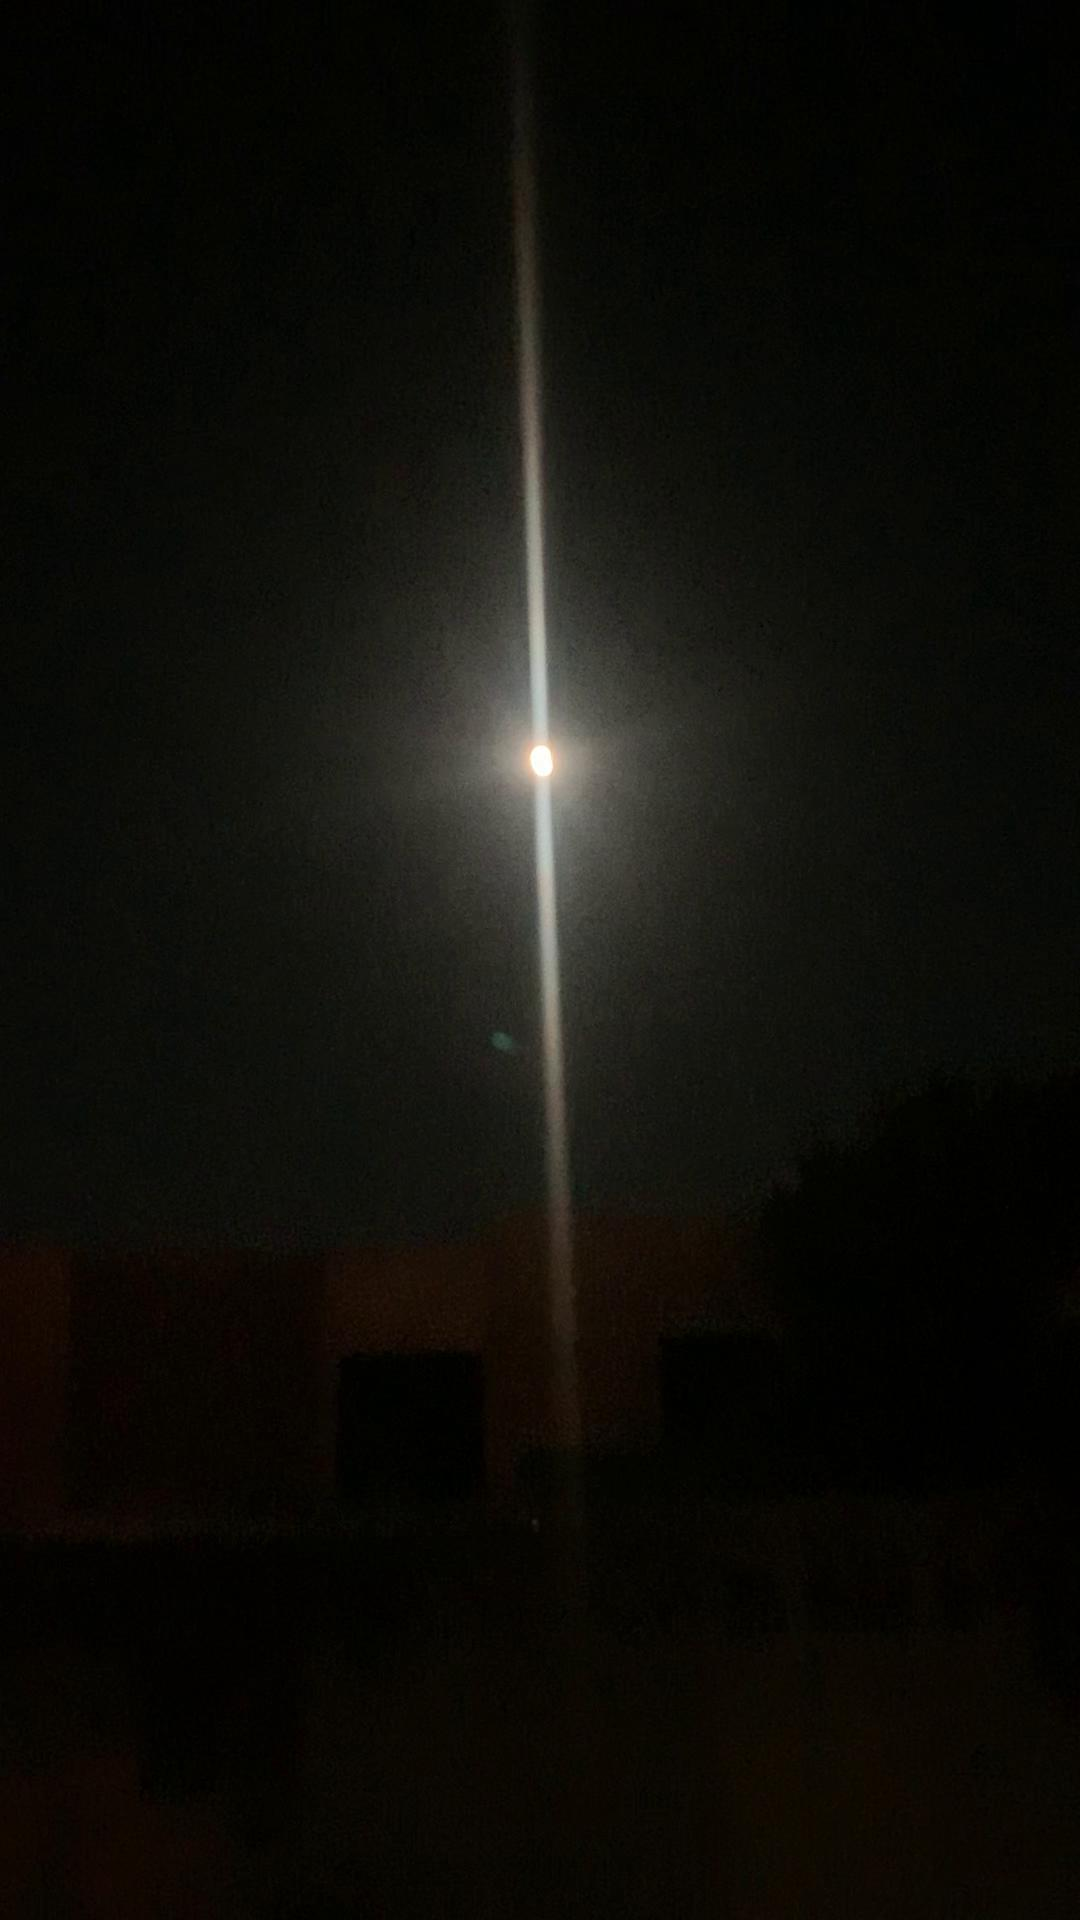moon: (512, 735, 585, 814)
